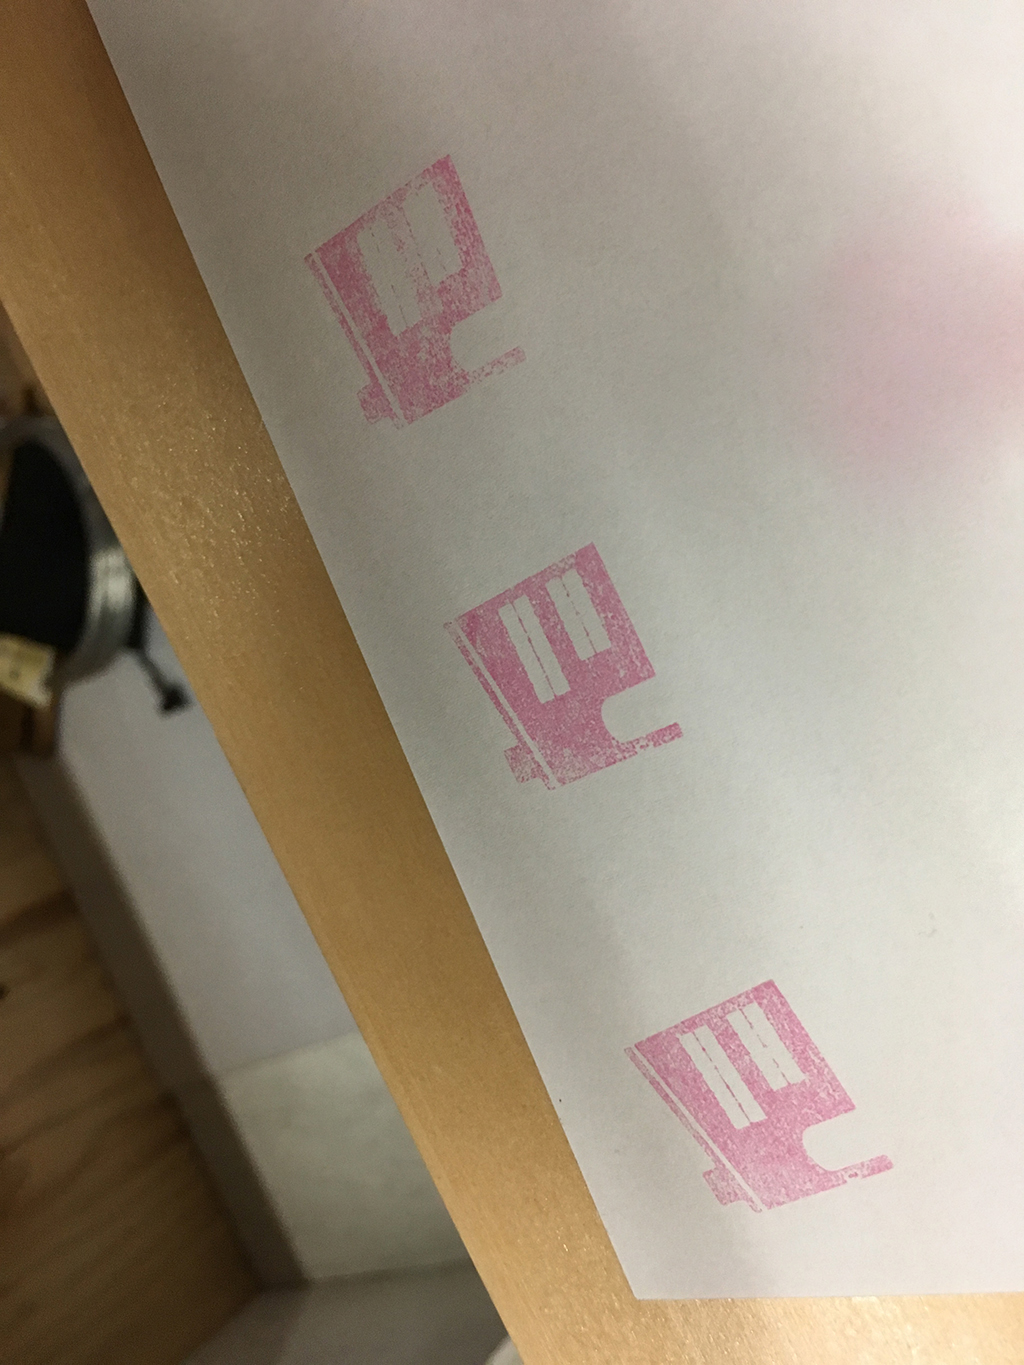house: (287, 146, 563, 443), (616, 959, 902, 1225), (427, 532, 700, 794)
